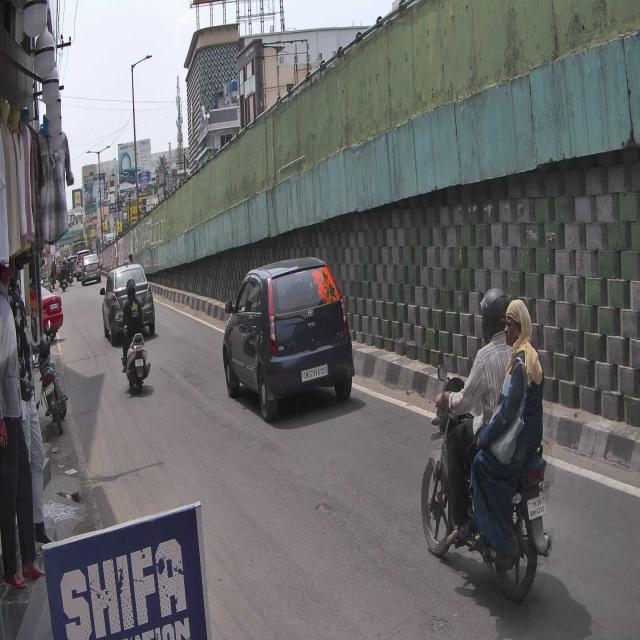double_rider: (420, 284, 555, 606)
